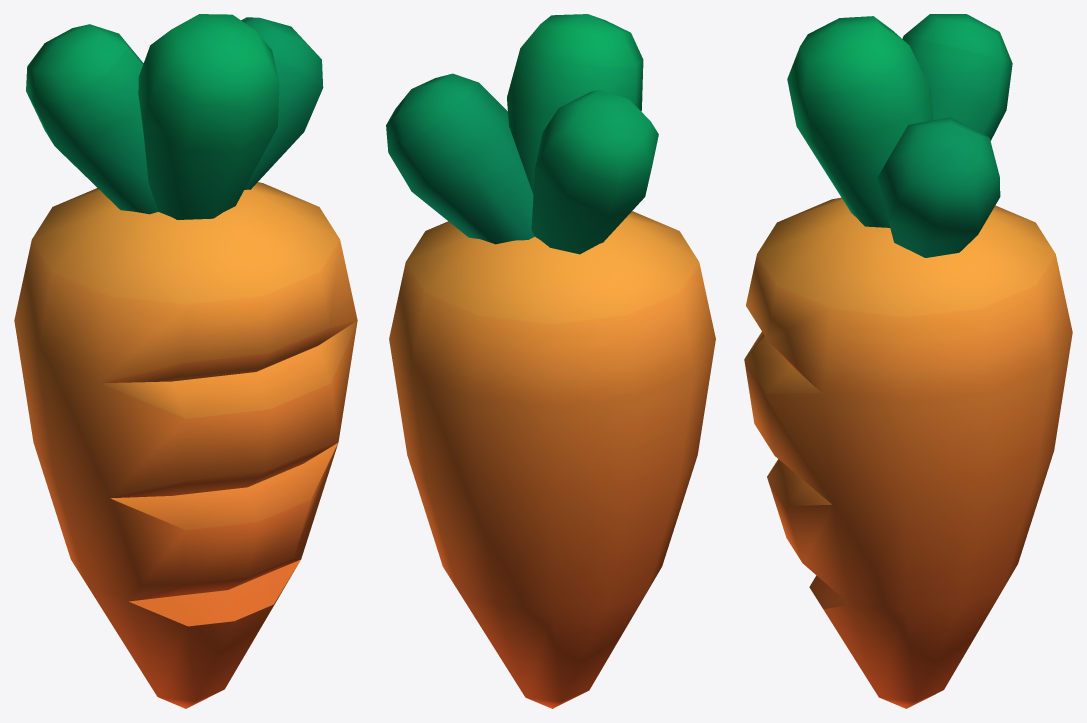
The model's file is carrot.glb.
3 renders of one model, left to right at view 1: azimuth 30°, elevation 25°; view 2: azimuth 150°, elevation 25°; view 3: azimuth 270°, elevation 25°, orthographic. The views are drawn at different scales.
Visible parts, largest first — view 1: food_ingredient_carrot; view 2: food_ingredient_carrot; view 3: food_ingredient_carrot.
Part boxes in pixels (x1,y1,x2,y2): food_ingredient_carrot: (14,14,357,708); food_ingredient_carrot: (386,14,715,708); food_ingredient_carrot: (744,14,1072,708).
Size of the model in its own units: 0.56 by 1.27 by 0.5529.
Materials: 1 (1 with a texture image).
